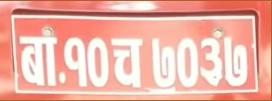0: (86, 35, 113, 92), (175, 35, 201, 88)
1: (63, 35, 88, 91)
3: (200, 35, 224, 88)
7: (223, 33, 252, 86), (149, 37, 178, 89)
ba: (16, 34, 61, 91)
cha: (109, 36, 148, 88)
